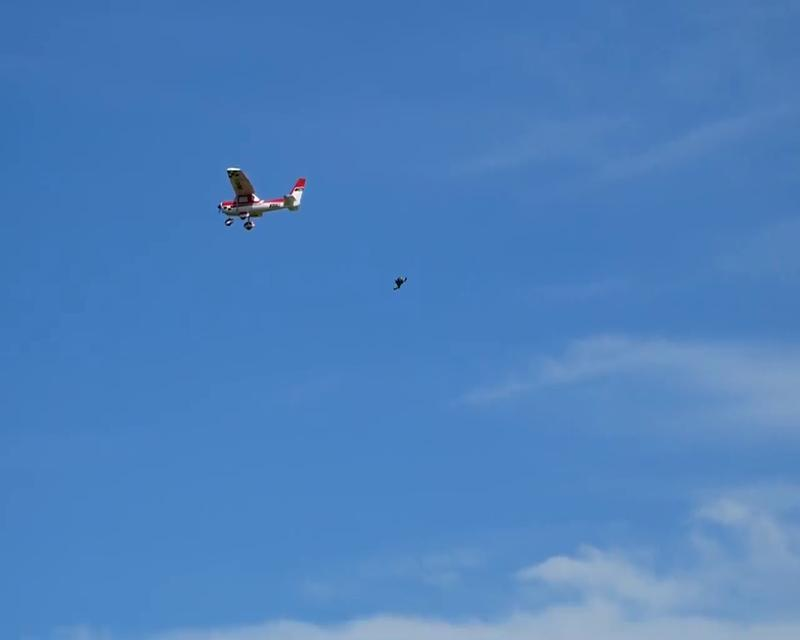UAV: (216, 167, 306, 233)
